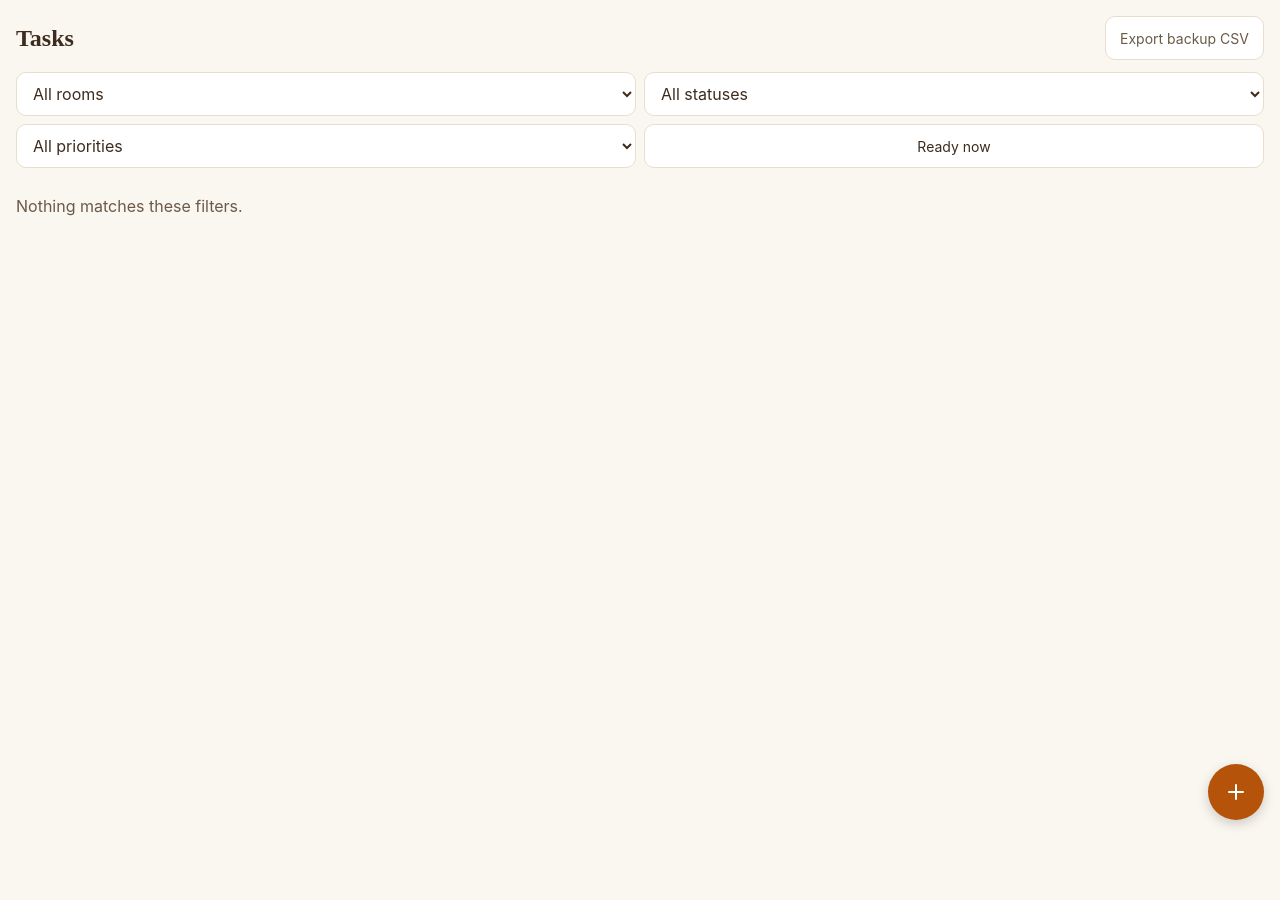
TaskListPage › the Fab opens NewTaskSheet (no default room), and it closes again
Click the button named "Add a task" at (1236, 792), box [1208,764,1264,820]
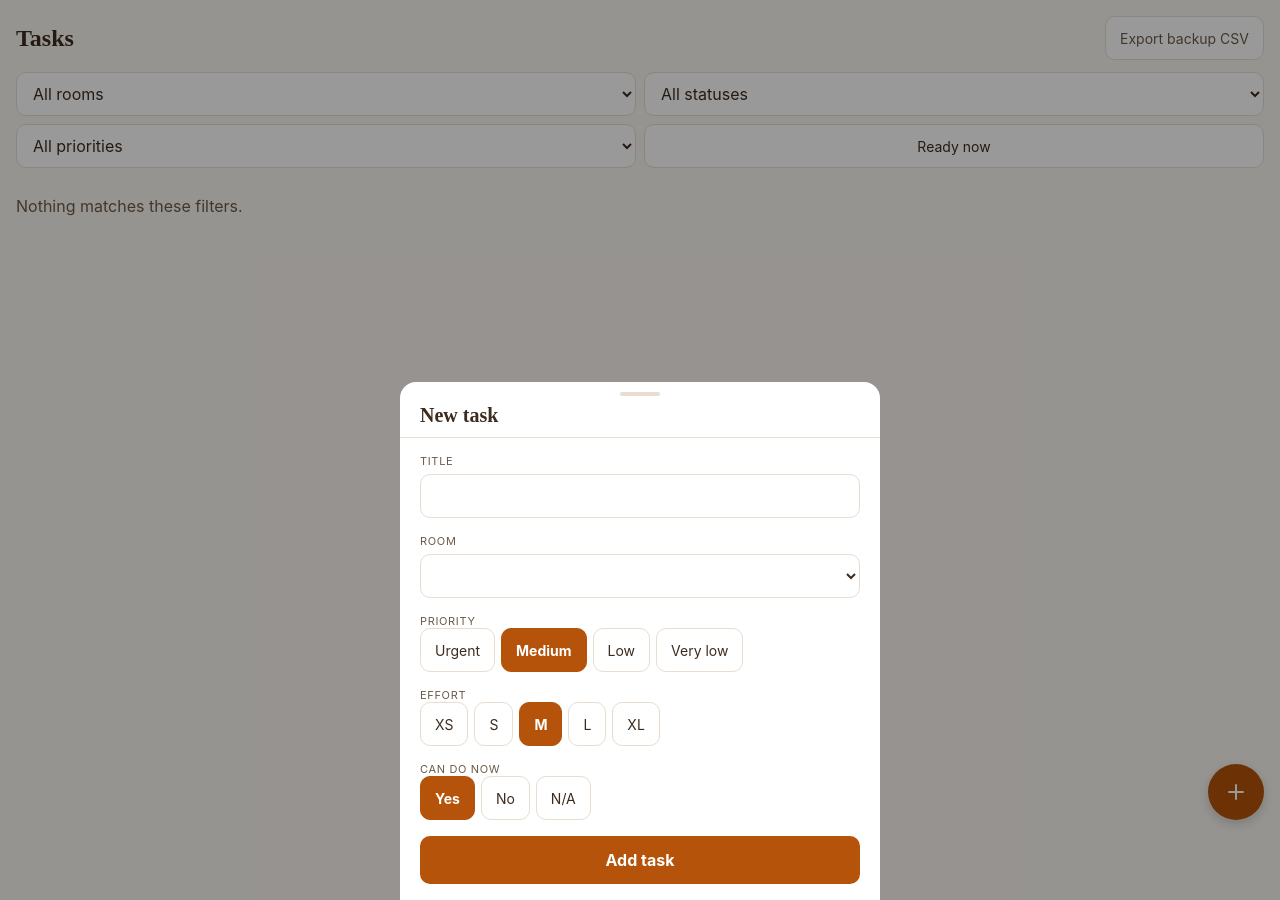
Check: the dialog "New task" is shown, box [400,382,880,899]
Check: the button "Add task" is shown, box [420,836,860,884]
Note: Sheet stays mounted-but-closed: no dialog after backdrop click.
Click the element with class "ht-sheet__backdrop" at (77, 450), box [0,0,1279,899]
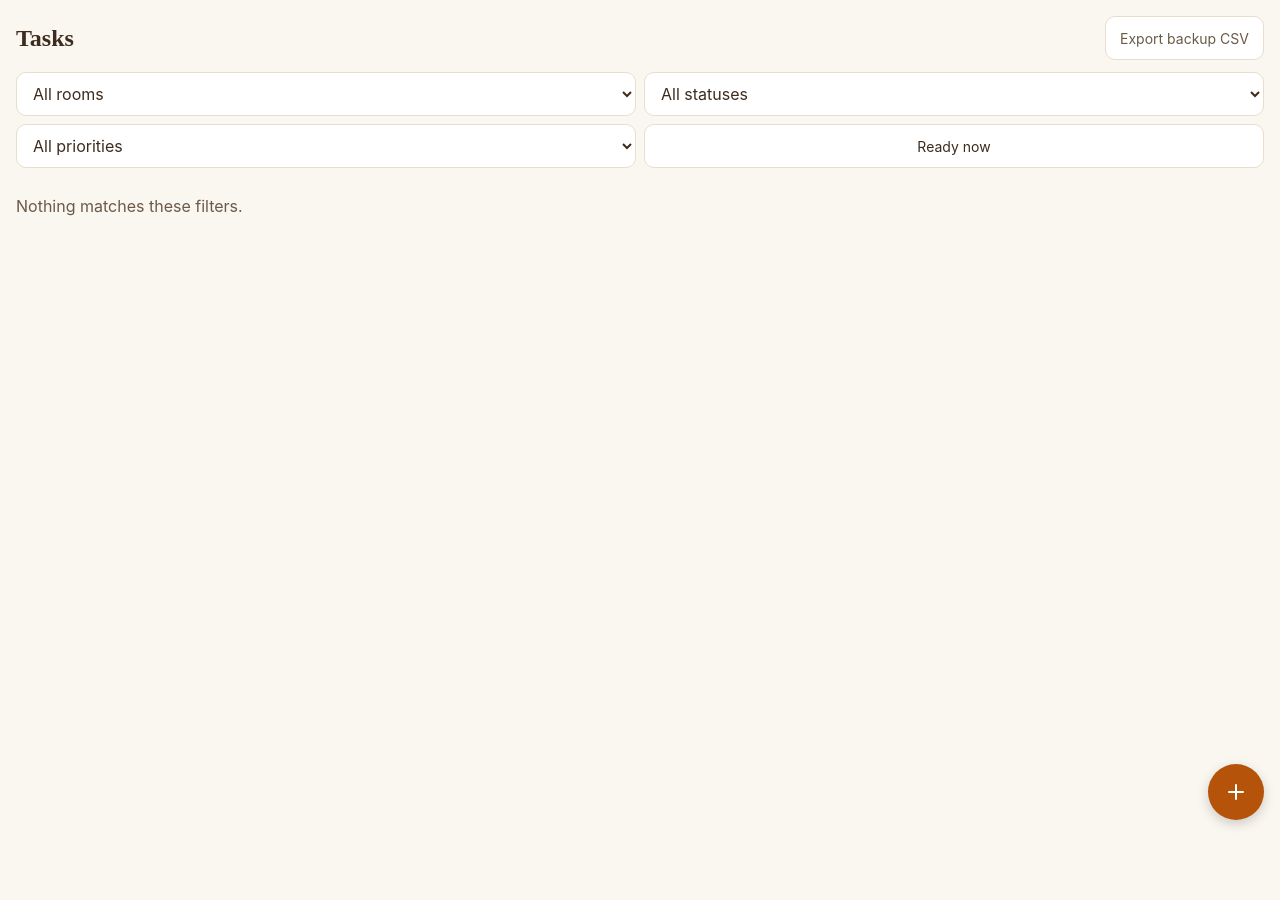
Check: the heading "New task" is gone
